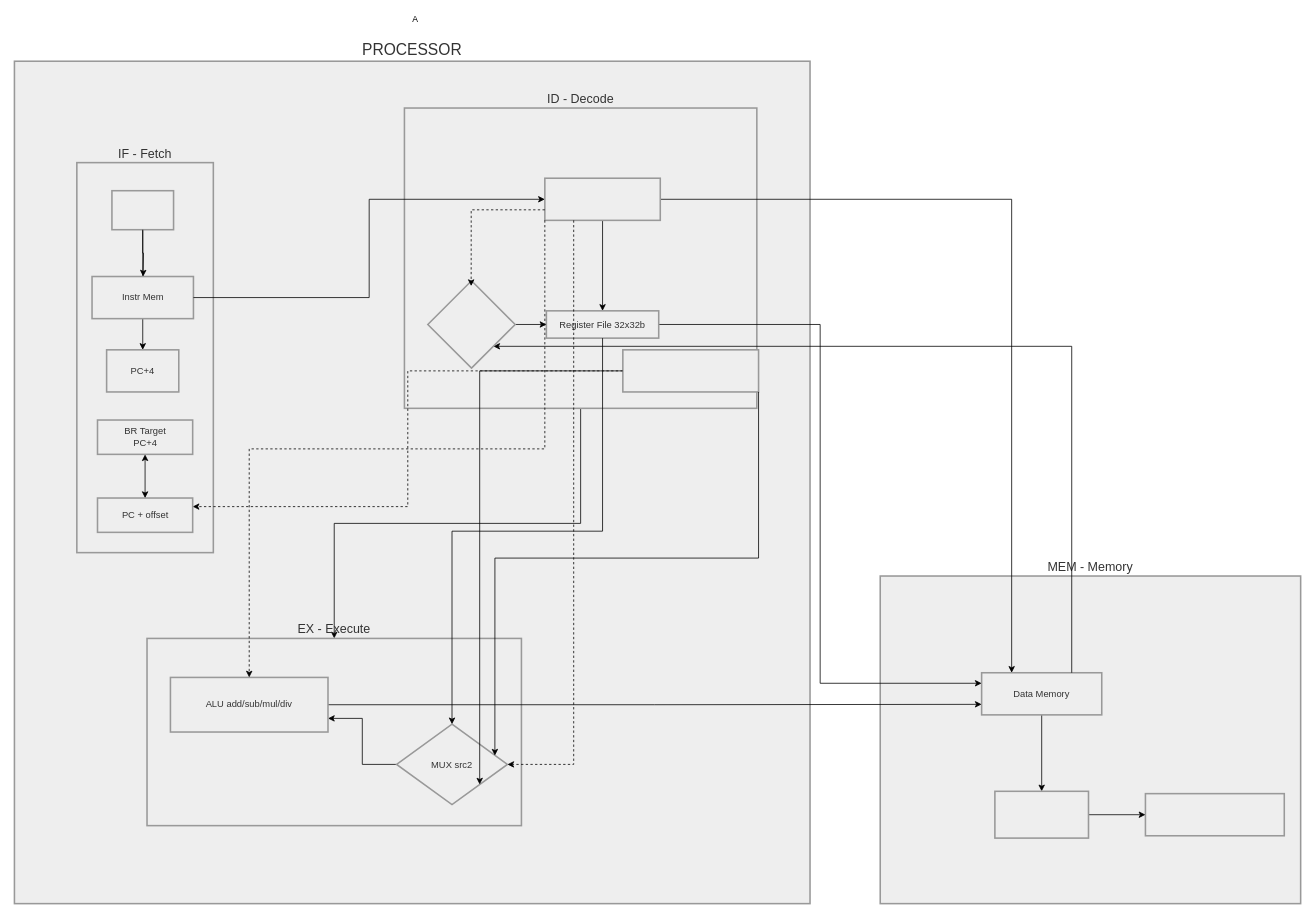
The diagram is 1314 pixels wide and 917 high, and some of its shapes have lost their labels. Each missing label, with the centre of its shape:
Control Unit: (x=602, y=199)
MMIO Decoder: (x=1041, y=814)
MMIO(Memory mapped I/O) INPUT:0x80 OUTPUT:0x84: (x=1214, y=814)
MUX WB: (x=471, y=324)
PC: (x=142, y=210)
Sign Extend 12b: (x=690, y=370)
